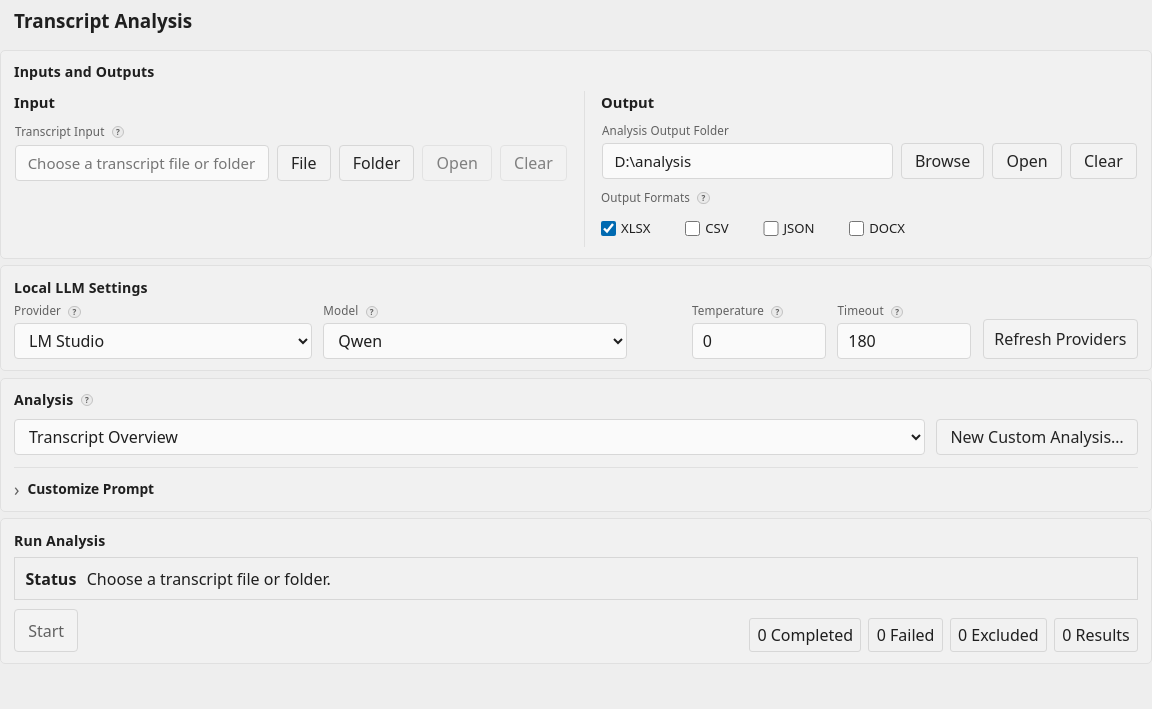
Test case: Transcript Analysis page › preserves the active snapshot through a polling failure and clears reconnecting after recovery
Click the button "File" at coordinates (304, 163), box [277, 145, 331, 181]
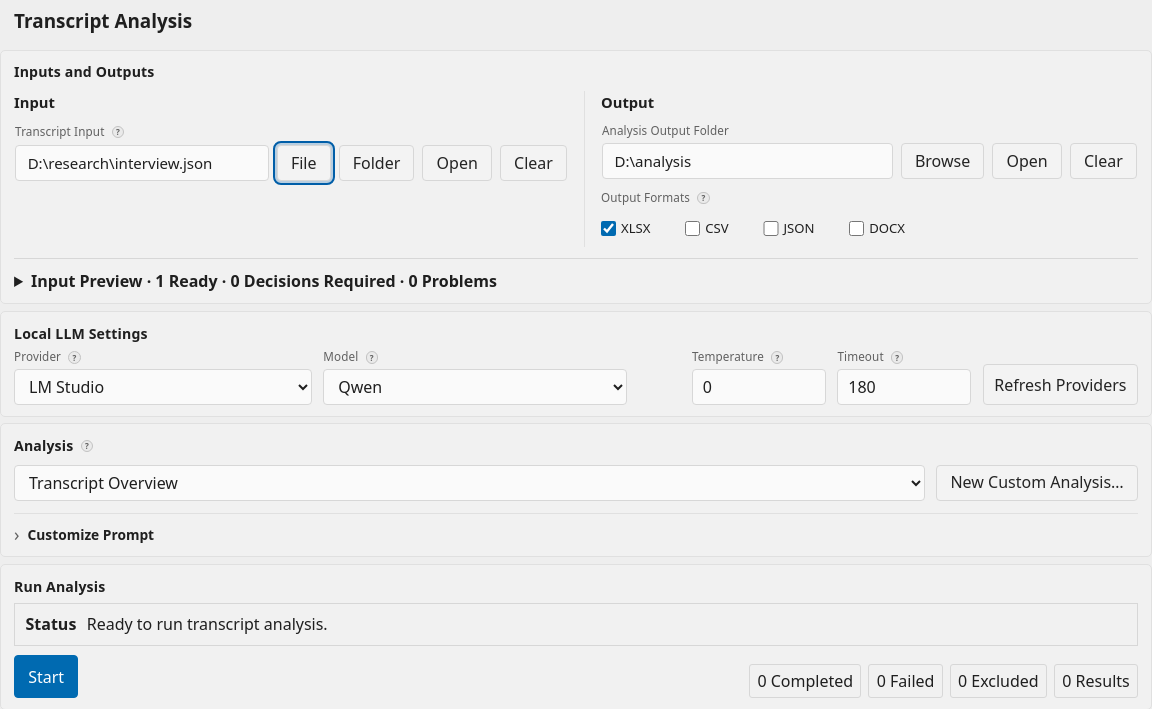
Expected: the button "Start" is enabled
Click the button "Start" at coordinates (46, 677), box [14, 655, 78, 698]
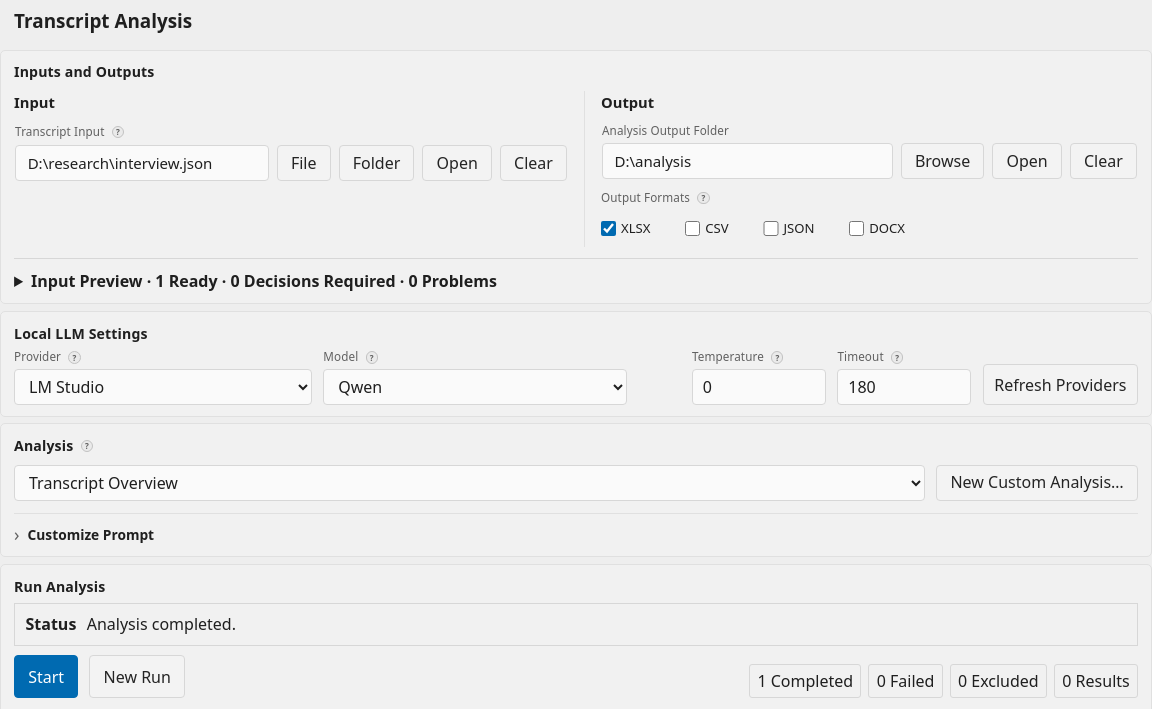
Expected: the text "Analysis completed." is shown, [87, 613, 236, 635]
